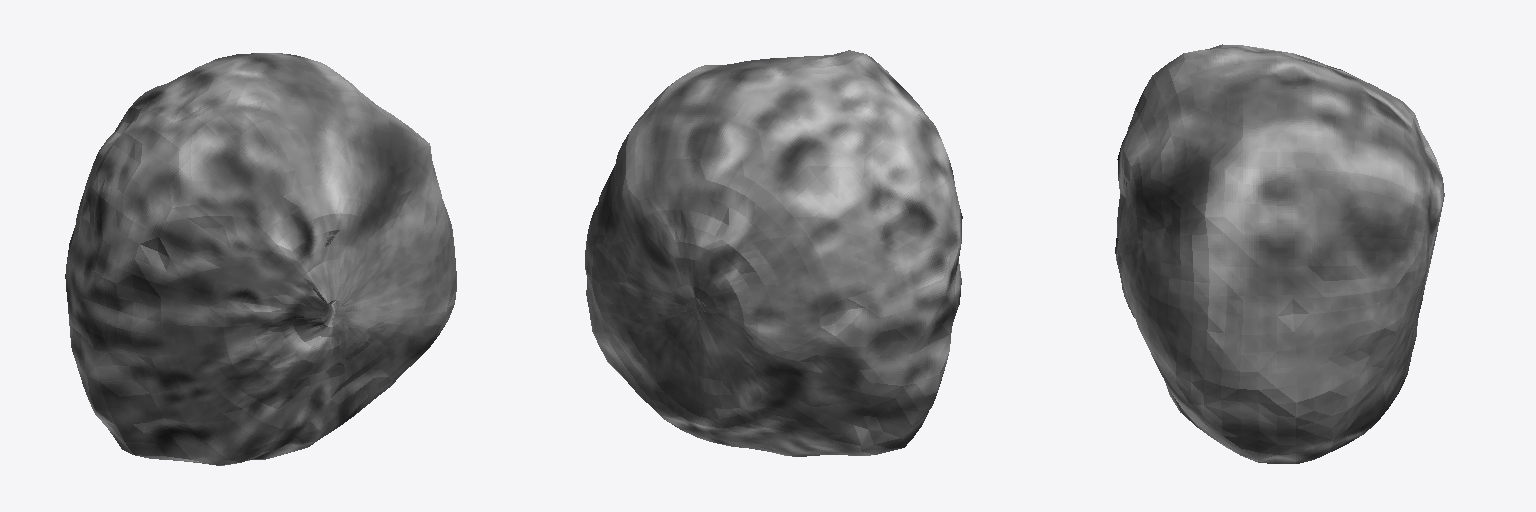
The picture shows the model from 3 angles: view 1: azimuth 30°, elevation 25°; view 2: azimuth 150°, elevation 25°; view 3: azimuth 270°, elevation 25°; orthographic projection.
Size of the model in its own units: 192 by 193 by 155.
1 materials, 1 textured.